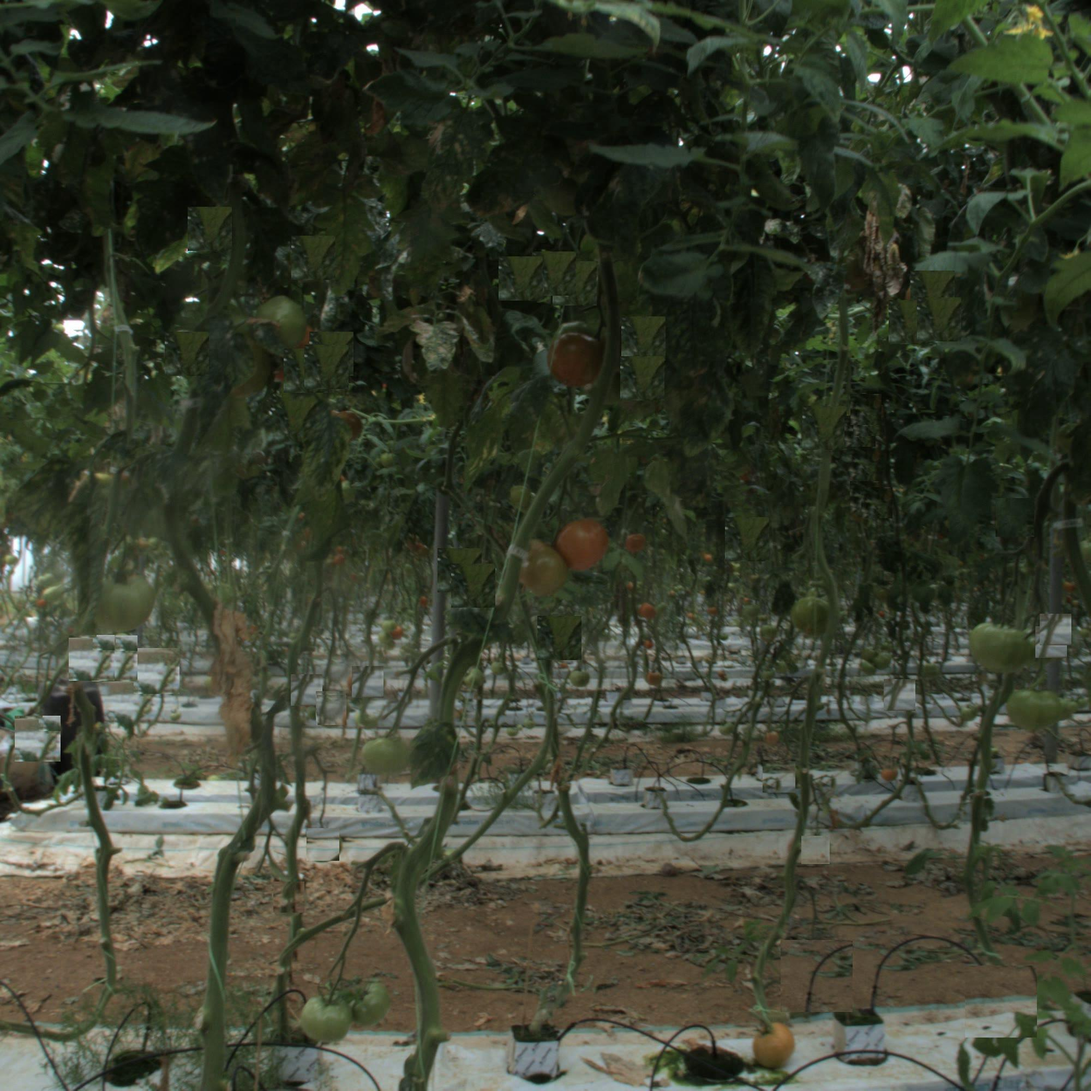['unripe', 'semi-ripe', 'fully-ripe']: (967, 613, 1031, 678), (95, 575, 152, 632), (298, 991, 353, 1045), (1009, 681, 1063, 735), (257, 299, 305, 347), (788, 597, 834, 643), (347, 978, 392, 1023), (364, 736, 403, 775)
